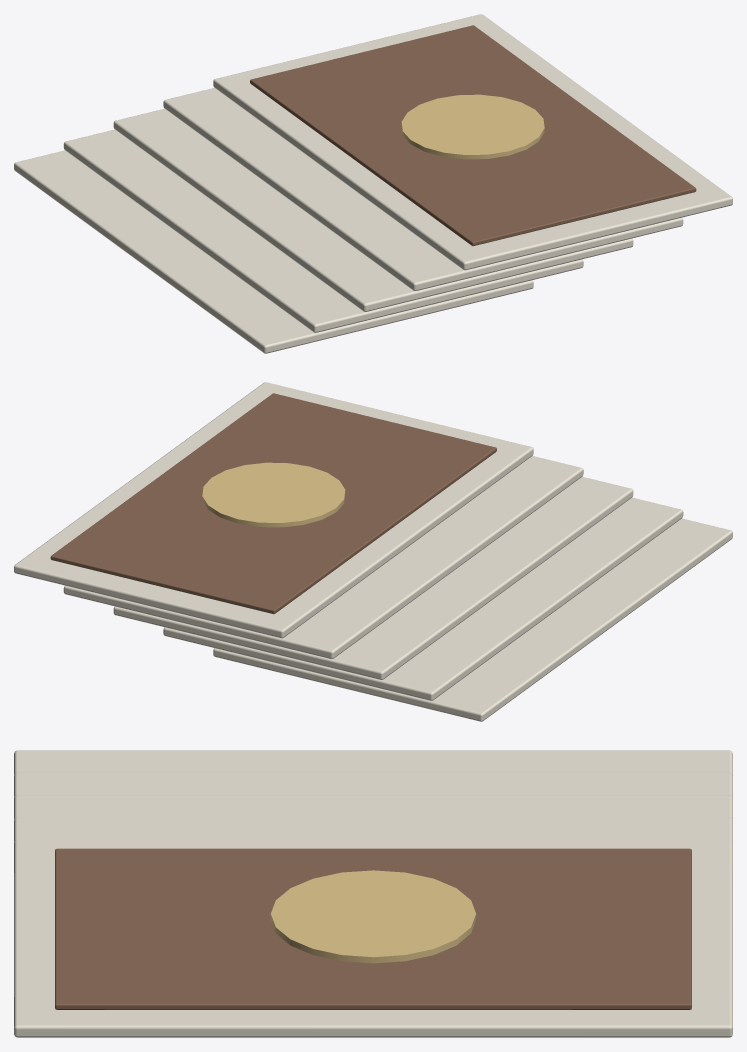
Rendered from paranormal-investigation-house-tarot-deck-f53ef6ab__26824.glb.
The picture shows the model from 3 angles, top to bottom: view 1: azimuth 30°, elevation 25°; view 2: azimuth 150°, elevation 25°; view 3: azimuth 270°, elevation 25°; orthographic projection. The views are drawn at different scales.
Parts seen in each view (by area): view 1: tarot-deck; view 2: tarot-deck; view 3: tarot-deck.
Part boxes in pixels (<box>): tarot-deck: <box>14,14,732,353</box>; tarot-deck: <box>14,382,732,721</box>; tarot-deck: <box>14,750,732,1037</box>.
Size of the model in its own units: 0.113 by 0.013 by 0.105.
